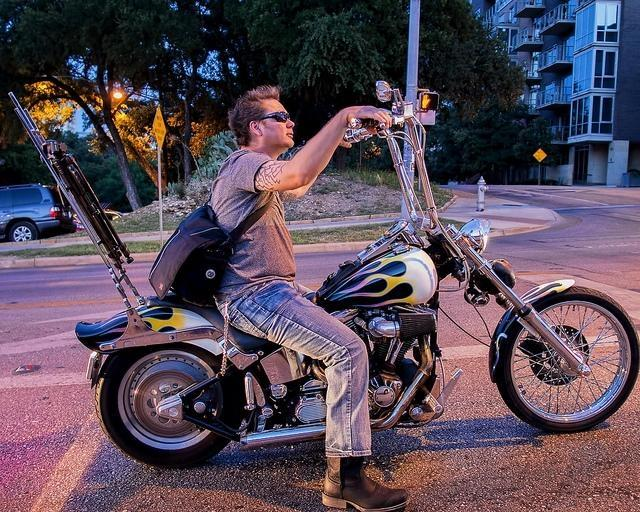car: (0, 185, 75, 241), (104, 210, 124, 221)
motorcycle: (73, 74, 640, 466)
